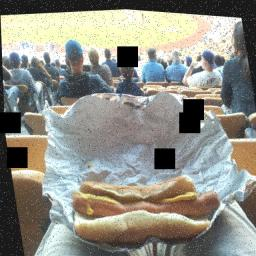hotdog: (67, 168, 226, 223)
